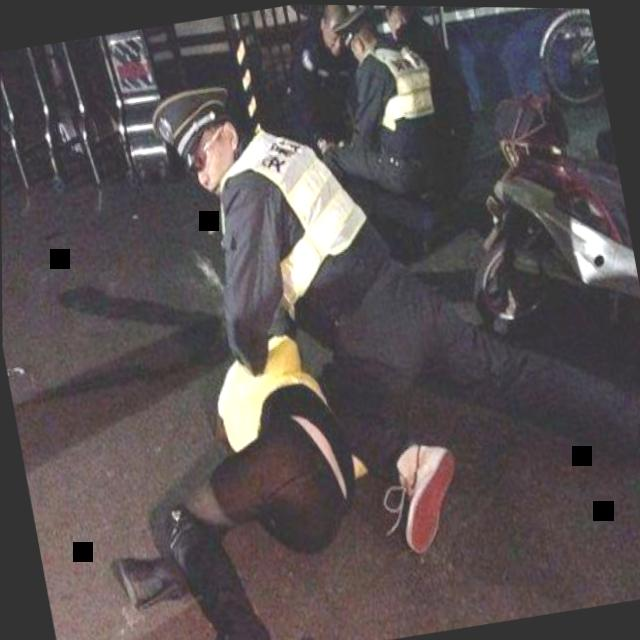Fall-Detected: (57, 285, 409, 640)
